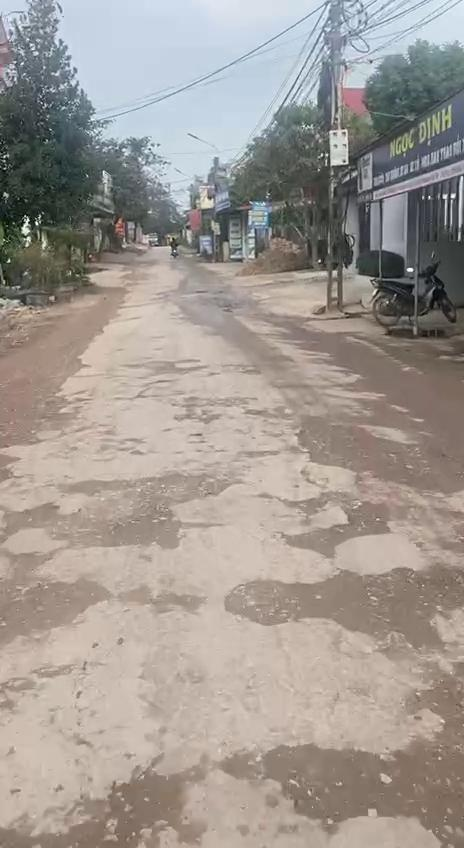pothole: (219, 741, 464, 848), (0, 468, 238, 553), (217, 566, 464, 646), (286, 413, 464, 496), (14, 768, 192, 848), (0, 548, 119, 652), (266, 484, 392, 562), (401, 662, 464, 762), (0, 390, 71, 450), (172, 394, 250, 426)
